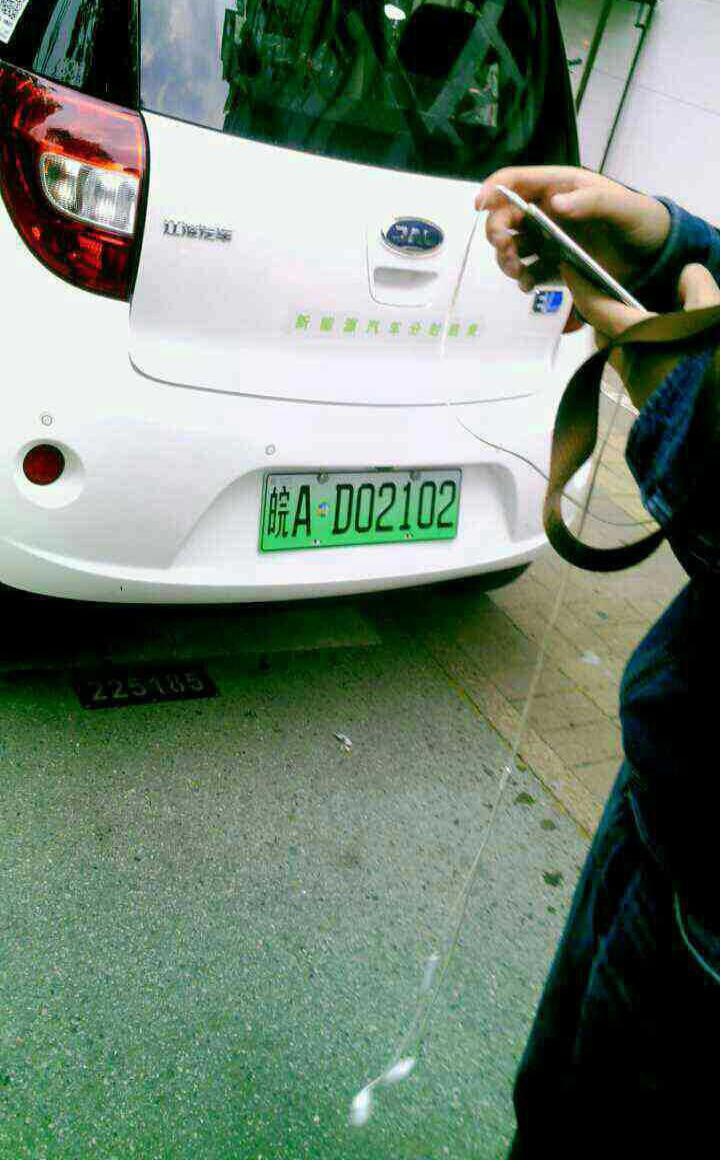car_green: (257, 456, 469, 555)
